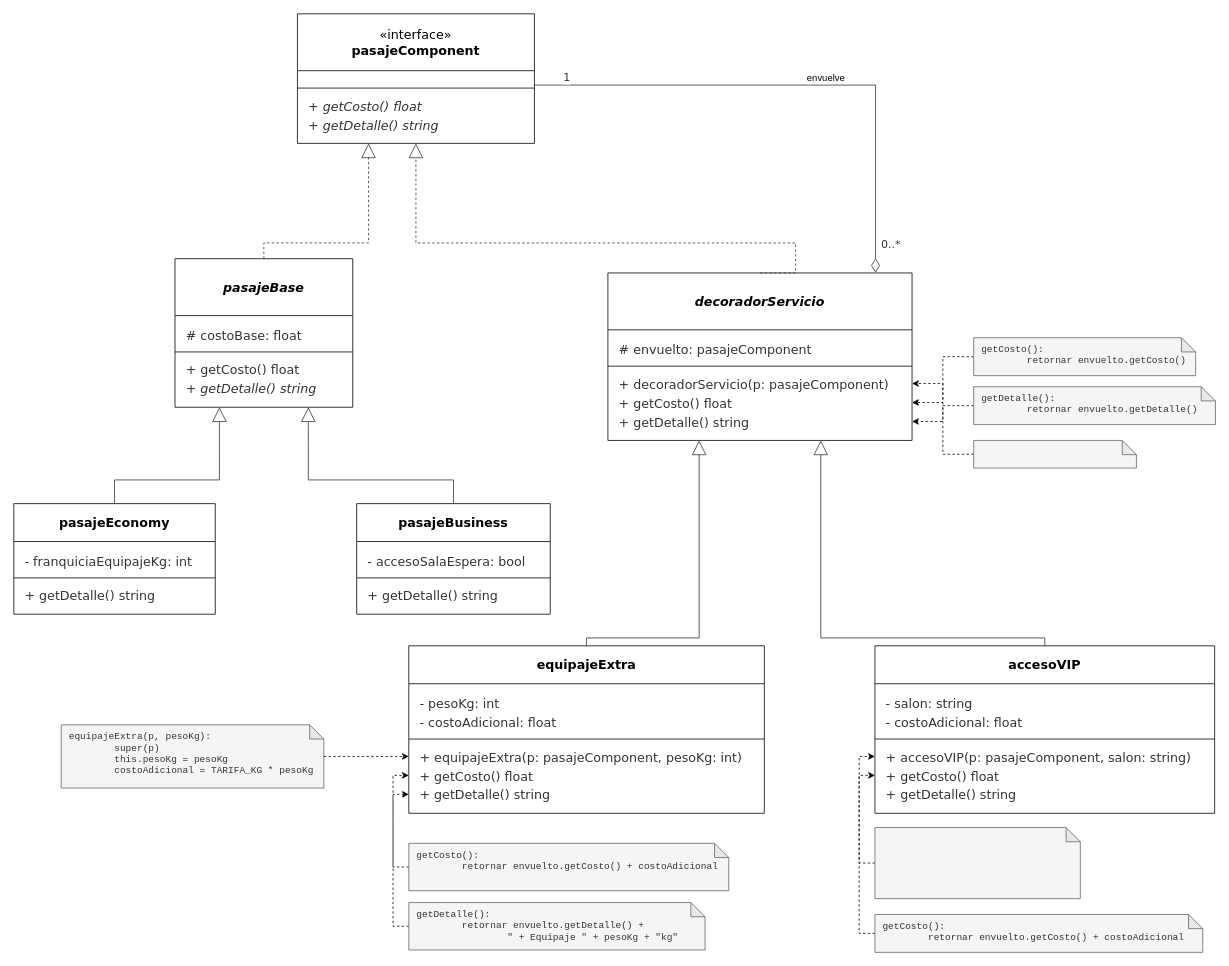
This 1229x966 diagram has some shape labels left out. Each missing label, with the centre of its shape:
"accesoVIP(p, salon): super(p) salon = salon costoAdicional = COSTO_VIP" goes at point 977,863.
"decoradorServicio(p): envuelto = p" goes at point 1054,454.
